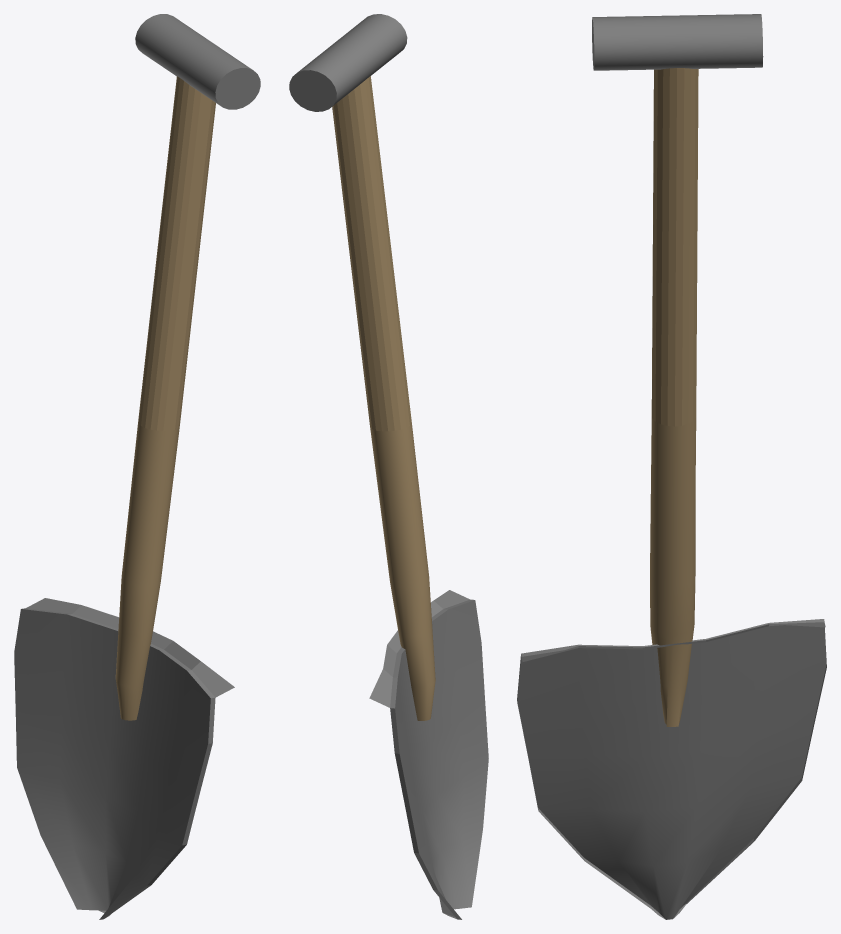
File: SHOVEL.fbx
The picture shows the model from 3 angles, left to right: view 1: azimuth 30°, elevation 25°; view 2: azimuth 150°, elevation 25°; view 3: azimuth 270°, elevation 25°; orthographic projection. The views are drawn at different scales.
Visible parts, largest first — view 1: polySurface1; view 2: polySurface1; view 3: polySurface1.
Part boxes in pixels (x1,y1,x2,y2): polySurface1: (14,14,260,919); polySurface1: (289,14,488,919); polySurface1: (517,14,826,919).
Bounding box in the file's own units: 0.5014 × 2.67 × 0.7906.
